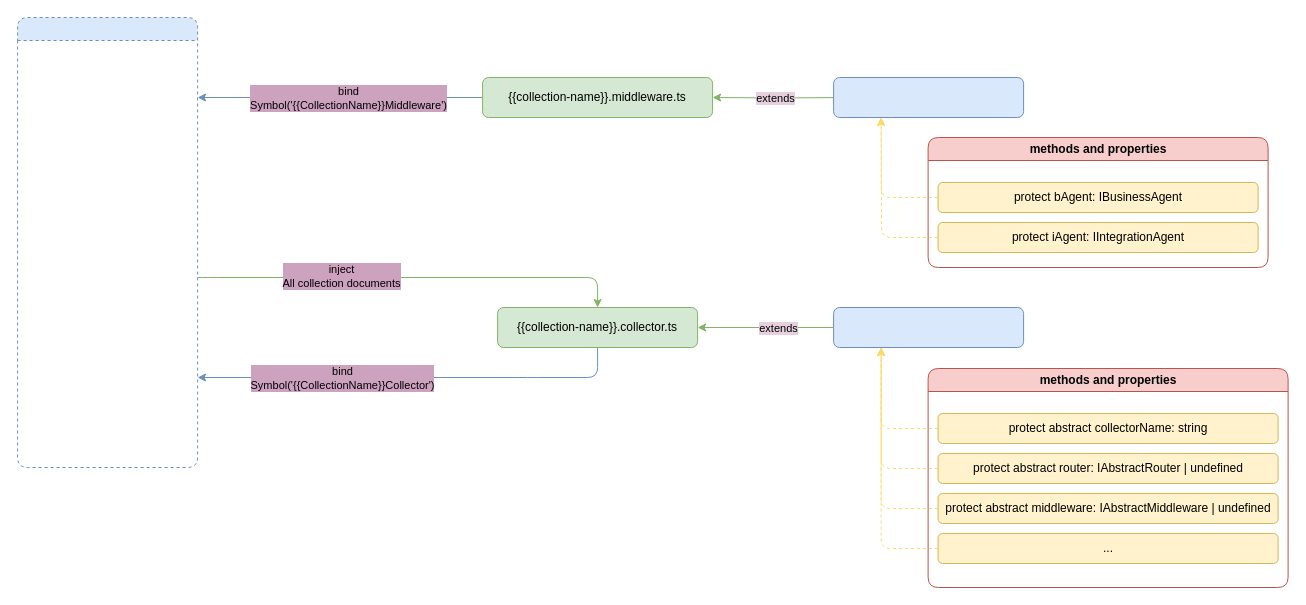
The diagram is 1306 pixels wide and 605 high, and some of its shapes have lost their labels. The centre of each missing label's shape, as x and y in pixels:
"abstract.collector.ts" goes at (x=928, y=327).
"abstract.middleware.ts" goes at (x=928, y=97).
"ioc.{{application-name}}.ts" goes at (x=107, y=242).
